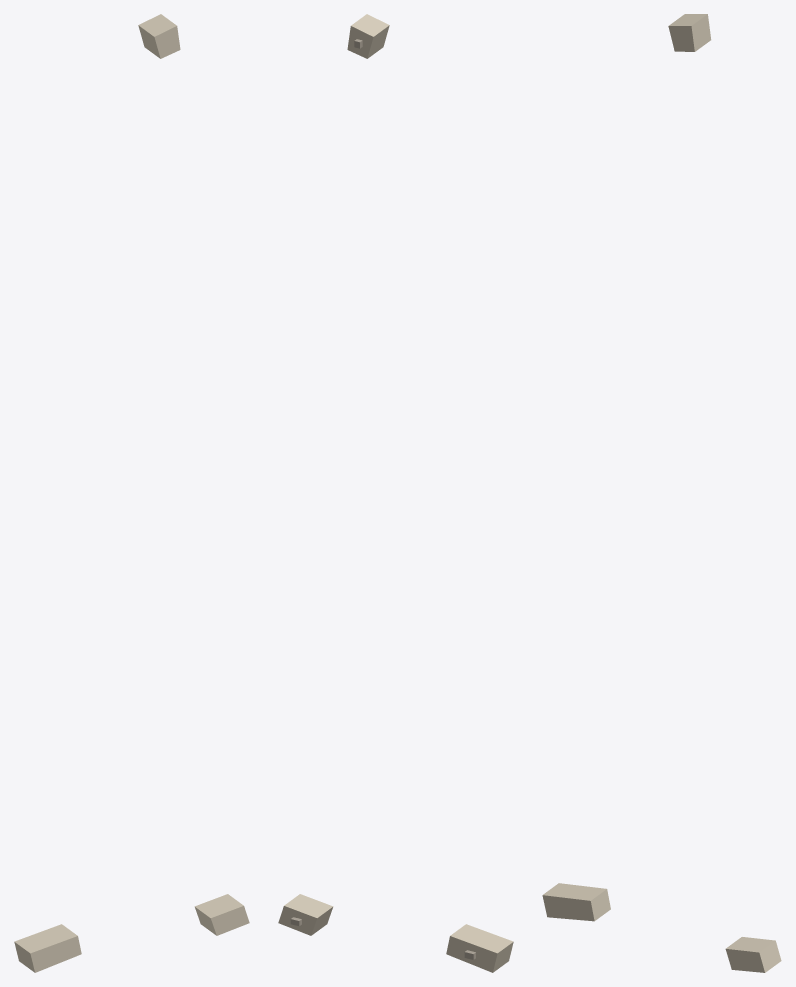
The model's file is historic-palestine-14_29_3558_3231.glb.
3 renders of one model, left to right at view 1: azimuth 30°, elevation 25°; view 2: azimuth 150°, elevation 25°; view 3: azimuth 330°, elevation 25°, orthographic.
Visible parts, largest first — view 1: Building_, Building_.001, Building_.002; view 2: Building_, Building_.001, Building_.002; view 3: Building_, Building_.001, Building_.002.
Boxes of the visible parts, left/top/right/bottom form: Building_: left=14, top=924, right=81, bottom=972; Building_.001: left=194, top=894, right=249, bottom=935; Building_.002: left=138, top=14, right=180, bottom=58; Building_: left=446, top=924, right=513, bottom=972; Building_.001: left=278, top=894, right=333, bottom=935; Building_.002: left=347, top=14, right=389, bottom=58; Building_: left=542, top=883, right=610, bottom=921; Building_.001: left=725, top=937, right=781, bottom=972; Building_.002: left=668, top=14, right=711, bottom=51.
Bounding box in the file's own units: 58.77 × 235 × 8.7.
